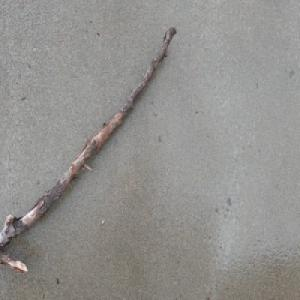Wood: (0, 25, 178, 274)
